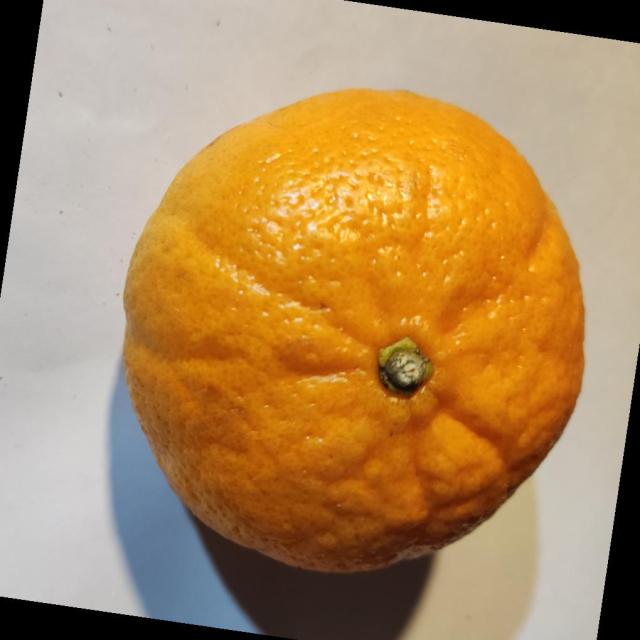fresh orange: (120, 86, 586, 575)
